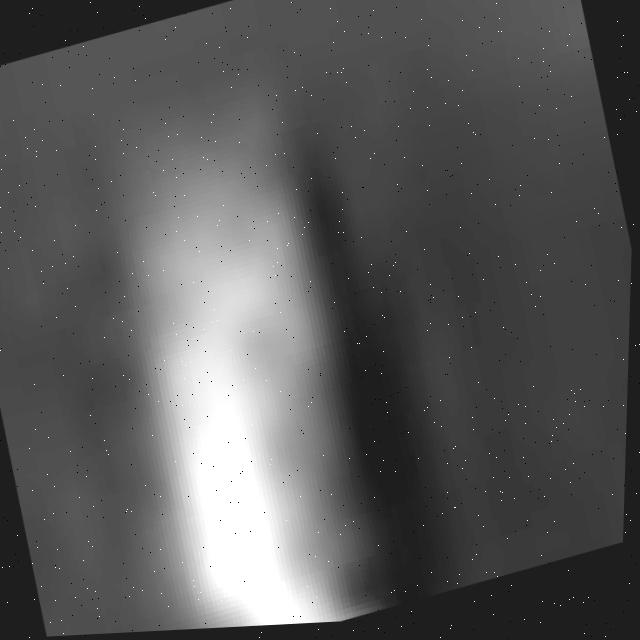person: (69, 79, 411, 638)
